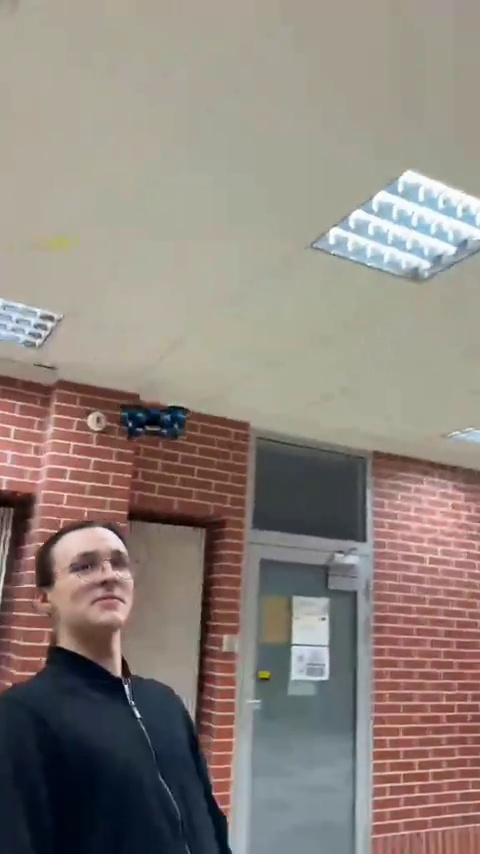drone: (116, 403, 195, 440)
no vest: (0, 527, 228, 851)
